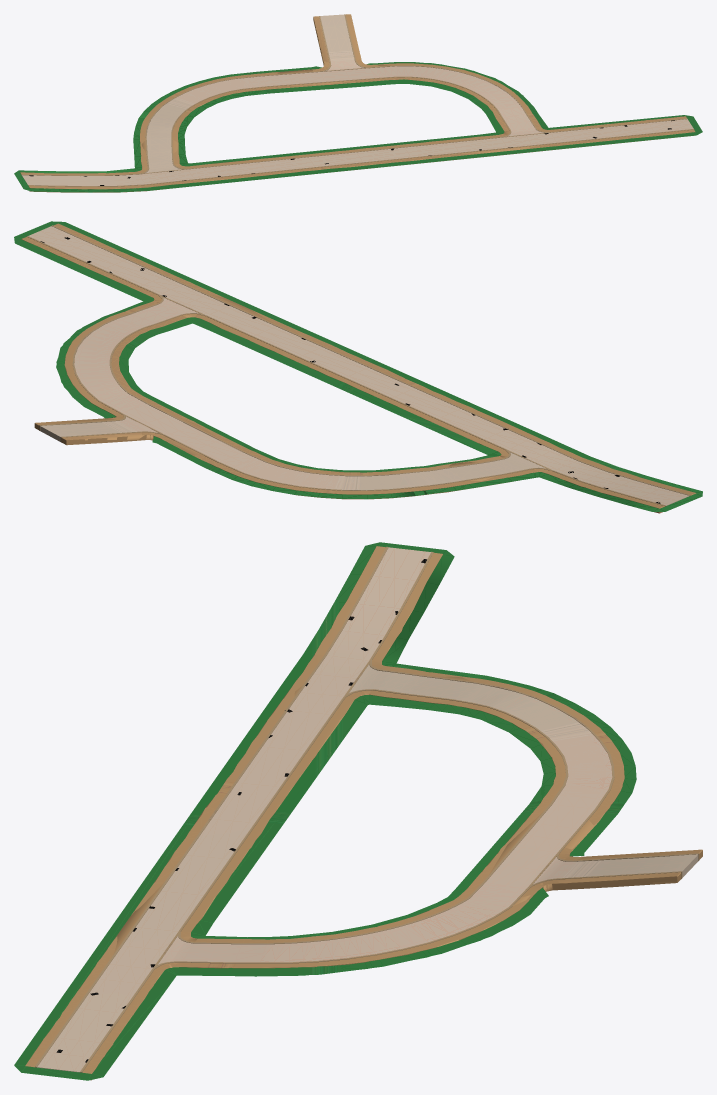
File: objects_un_t02tile01.gltf
3 renders of one model, top to bottom at view 1: azimuth 30°, elevation 25°; view 2: azimuth 150°, elevation 25°; view 3: azimuth 270°, elevation 25°, orthographic. The views are drawn at different scales.
Parts seen in each view (by area): view 1: um_objects_un_t02tile01_model_lod0Shape:objects_un_t02tile01 (×4), um_objects_un_t02tile01_model_lod1Shape:objects_un_t02tile01 (×4), um_objects_un_t02tile01_model_lod2Shape:objects_un_t02tile01; view 2: um_objects_un_t02tile01_model_lod0Shape:objects_un_t02tile01 (×4), um_objects_un_t02tile01_model_lod1Shape:objects_un_t02tile01 (×4), um_objects_un_t02tile01_model_lod2Shape:objects_un_t02tile01; view 3: um_objects_un_t02tile01_model_lod0Shape:objects_un_t02tile01 (×4), um_objects_un_t02tile01_model_lod1Shape:objects_un_t02tile01 (×4), um_objects_un_t02tile01_model_lod2Shape:objects_un_t02tile01.
Part boxes in pixels (x1,y1,x2,y2): um_objects_un_t02tile01_model_lod0Shape:objects_un_t02tile01 (×4): (14, 14, 702, 192); um_objects_un_t02tile01_model_lod1Shape:objects_un_t02tile01 (×4): (44, 14, 691, 192); um_objects_un_t02tile01_model_lod2Shape:objects_un_t02tile01: (107, 62, 684, 171); um_objects_un_t02tile01_model_lod0Shape:objects_un_t02tile01 (×4): (14, 221, 702, 513); um_objects_un_t02tile01_model_lod1Shape:objects_un_t02tile01 (×4): (40, 229, 643, 495); um_objects_un_t02tile01_model_lod2Shape:objects_un_t02tile01: (15, 239, 567, 494); um_objects_un_t02tile01_model_lod0Shape:objects_un_t02tile01 (×4): (14, 542, 702, 1080); um_objects_un_t02tile01_model_lod1Shape:objects_un_t02tile01 (×4): (30, 559, 698, 1063); um_objects_un_t02tile01_model_lod2Shape:objects_un_t02tile01: (92, 640, 555, 1076).
Bounding box in the file's own units: 163 × 7.78 × 91.85.
Materials: 5 (5 with a texture image).
